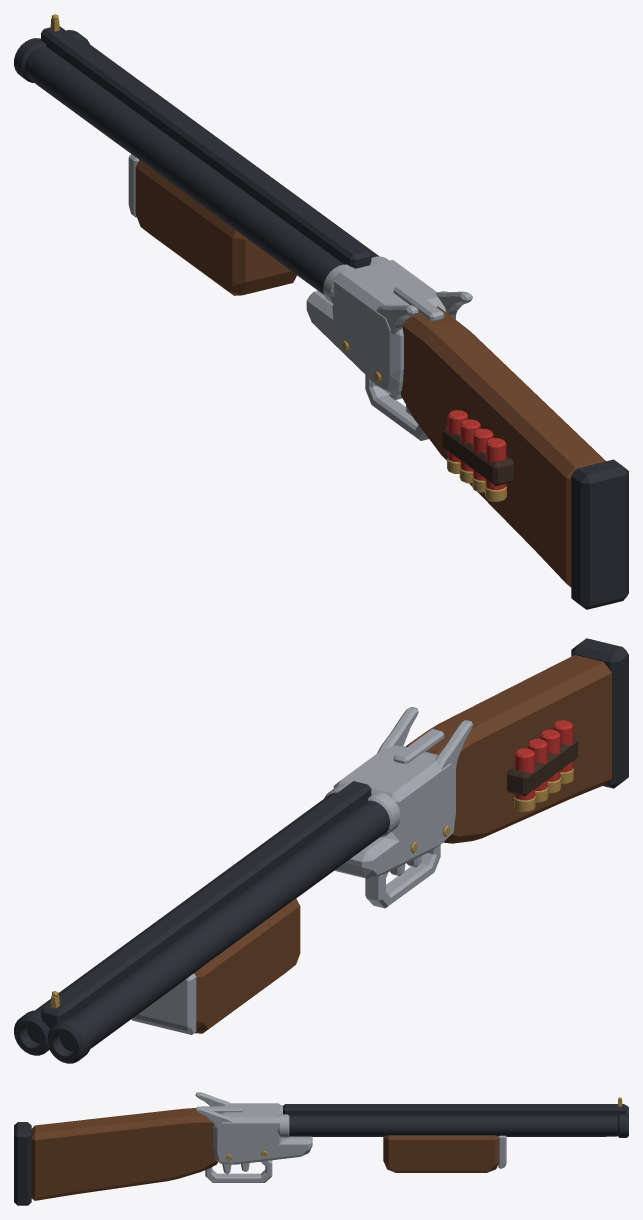
The model's file is w_shotgun@shotgun_double.glb.
3 renders of one model, top to bottom at view 1: azimuth 30°, elevation 25°; view 2: azimuth 150°, elevation 25°; view 3: azimuth 270°, elevation 25°, orthographic. The views are drawn at different scales.
Parts seen in each view (by area): view 1: barrel_wzB, stock_wzA, body_wzB, pump_wzA, stock_wzB, shells_wzN.001, shells_wzN, guard_wzN, hammer_wzN; view 2: barrel_wzB, stock_wzA, body_wzB, pump_wzA, stock_wzB, pump_wzN, guard_wzN, shells_wzN.001, shells_wzN, hammer_wzN, shells_wzN.002; view 3: stock_wzA, barrel_wzB, body_wzB, pump_wzA, stock_wzB, guard_wzN, hammer_wzN, pump_wzN.
Part boxes in pixels (<box>): barrel_wzB: <box>14,26,379,294</box>; stock_wzA: <box>401,306,605,587</box>; body_wzB: <box>306,256,455,395</box>; pump_wzA: <box>135,159,296,295</box>; stock_wzB: <box>571,459,628,609</box>; shells_wzN.001: <box>447,410,506,490</box>; shells_wzN: <box>442,426,513,485</box>; guard_wzN: <box>365,375,428,440</box>; hammer_wzN: <box>376,291,472,333</box>; barrel_wzB: <box>14,781,389,1063</box>; stock_wzA: <box>406,655,611,843</box>; body_wzB: <box>324,729,455,879</box>; pump_wzA: <box>194,898,300,1033</box>; stock_wzB: <box>571,638,628,788</box>; pump_wzN: <box>131,973,196,1034</box>; guard_wzN: <box>365,845,440,908</box>; shells_wzN.001: <box>514,720,573,800</box>; shells_wzN: <box>507,736,578,796</box>; hammer_wzN: <box>377,707,472,770</box>; shells_wzN.002: <box>514,768,573,812</box>; stock_wzA: <box>31,1108,217,1200</box>; barrel_wzB: <box>283,1104,628,1137</box>; body_wzB: <box>201,1103,312,1164</box>; pump_wzA: <box>383,1135,498,1172</box>; stock_wzB: <box>14,1122,31,1205</box>; guard_wzN: <box>205,1160,272,1182</box>; hammer_wzN: <box>195,1092,233,1128</box>; pump_wzN: <box>498,1135,506,1168</box>.
Bounding box in the file's own units: 0.0927 × 0.2132 × 1.15.
